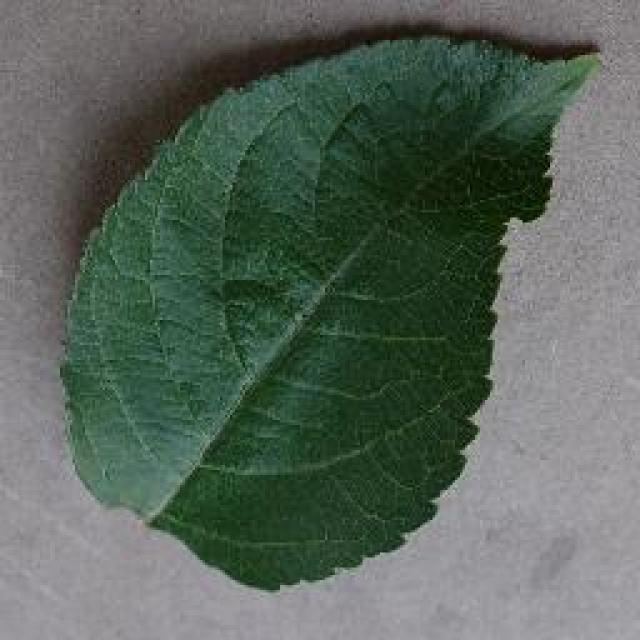apple healthy: (55, 22, 600, 592)
